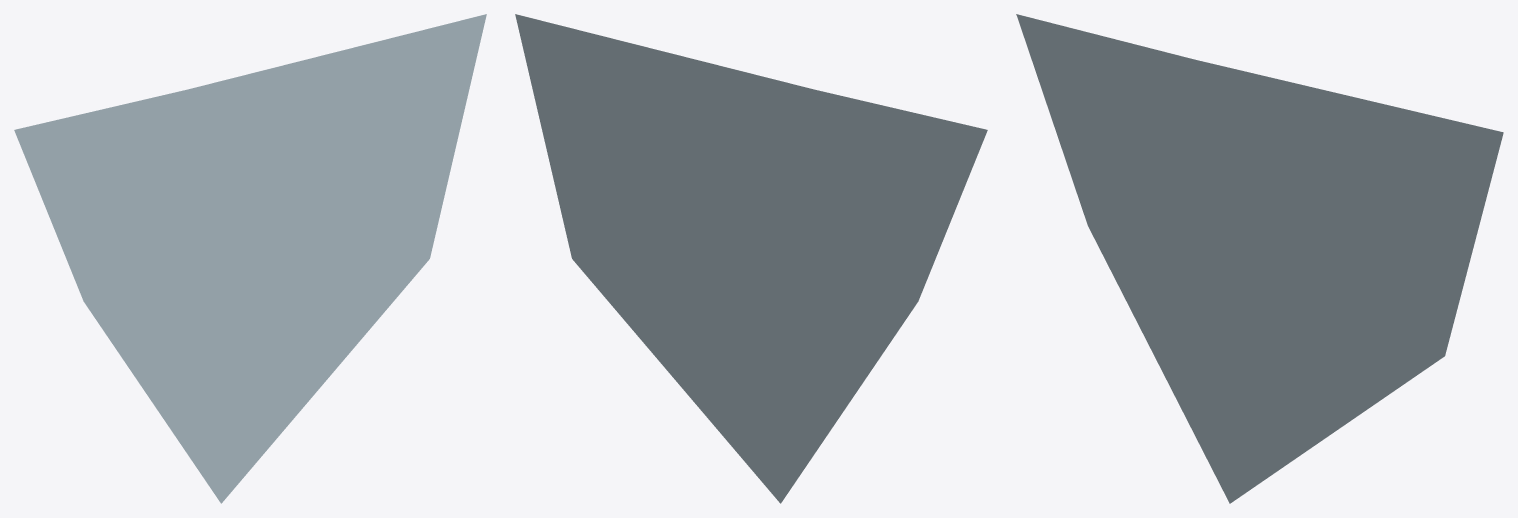
3 views of the same model, side by side, from view 1: azimuth 30°, elevation 25°; view 2: azimuth 150°, elevation 25°; view 3: azimuth 330°, elevation 25° (orthographic). The views are drawn at different scales.
Visible parts, largest first — view 1: pCube24; view 2: pCube24; view 3: pCube24.
Part boxes in pixels (left/top/right/bottom): pCube24: left=14, top=14, right=486, bottom=503; pCube24: left=515, top=14, right=987, bottom=503; pCube24: left=1016, top=14, right=1503, bottom=503.
Size of the model in its own units: 39.28 by 33.75 by 0.
